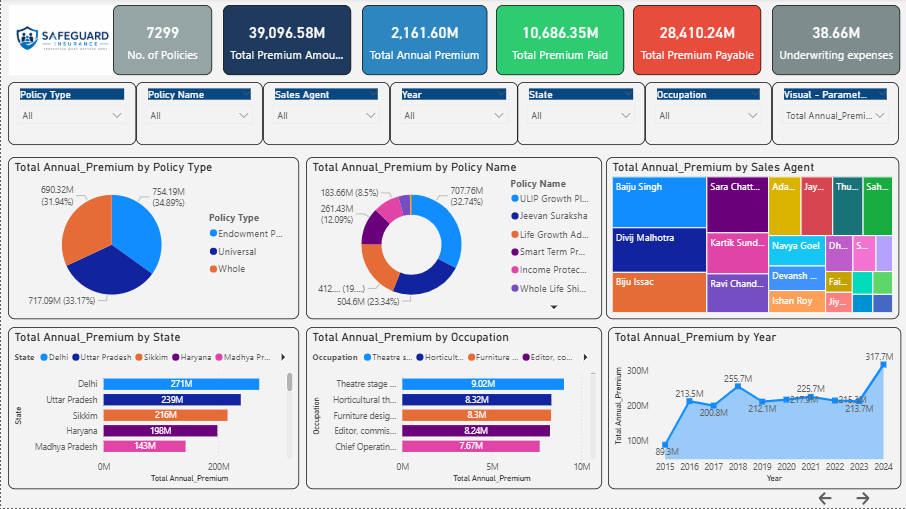

Layout of this report page (visuals, bound fields, positions):
{"tool":"powerbi","page":{"name":"Insurance Overview","canvas":[1280,720],"ordinal":1},"visuals":[{"type":"image","box":[0,10,170,98.6],"z":0},{"type":"slicer","fields":{"Values":["DM Policy_Type.Policy Type"]},"box":[9.9,118.6,180.7,88.9],"z":1000},{"type":"slicer","fields":{"Values":["DM Policy_Protection_Plan.Policy Name"]},"box":[190.6,118.6,179.3,88.9],"z":2000},{"type":"slicer","fields":{"Values":["DM Insurance_Agent_Table.Sales Agent"]},"box":[369.9,118.6,179.3,88.9],"z":3000},{"type":"slicer","fields":{"Values":["FCT Insurance_Policy_Table.Date of Purchase.Variation.Date Hierarchy.Year"]},"box":[549.2,118.6,180.7,88.9],"z":4000},{"type":"slicer","fields":{"Values":["DM Customer_Detail_Table.State"]},"box":[728.5,118.6,180.7,88.9],"z":5000},{"type":"slicer","fields":{"Values":["DM Customer_Detail_Table.Occupation"]},"box":[909.2,118.6,179.3,88.9],"z":6000},{"type":"slicer","fields":{"Values":["Visual - Parameter.Visual - Parameter"]},"box":[1088.5,118.6,179.3,88.9],"z":7000},{"type":"pieChart","fields":{"Y":["FCT Insurance_Policy_Table.Total Annual_Premium"],"Category":["DM Policy_Type.Policy Type"]},"box":[9.9,224.5,410.8,228.7],"z":8000},{"type":"donutChart","fields":{"Y":["FCT Insurance_Policy_Table.Total Annual_Premium"],"Category":["DM Policy_Protection_Plan.Policy Name"]},"box":[430.6,224.5,417.9,228.7],"z":9000},{"type":"treemap","fields":{"Values":["FCT Insurance_Policy_Table.Total Annual_Premium"],"Group":["DM Insurance_Agent_Table.Sales Agent"]},"box":[854.1,224.5,413.6,228.7],"z":10000},{"type":"barChart","title":"Total Annual_Premium by State","fields":{"Y":["FCT Insurance_Policy_Table.Total Annual_Premium"],"Category":["DM Customer_Detail_Table.State"],"Series":["DM Customer_Detail_Table.State"]},"box":[9.9,464.5,410.8,228.7],"z":11000},{"type":"barChart","title":"Total Annual_Premium by Occupation ","fields":{"Y":["FCT Insurance_Policy_Table.Total Annual_Premium"],"Category":["DM Customer_Detail_Table.Occupation"],"Series":["DM Customer_Detail_Table.Occupation"]},"box":[430.6,464.5,417.9,228.7],"z":12000},{"type":"areaChart","fields":{"Y":["FCT Insurance_Policy_Table.Total Annual_Premium"],"Category":["FCT Insurance_Policy_Table.Start Date.Variation.Date Hierarchy.Year"]},"box":[856.9,464.5,413.6,228.7],"z":13000},{"type":"card","fields":{"Values":["CountNonNull(DM Customer_Detail_Table.Customer ID)"]},"box":[158.1,9.9,139.8,98.8],"z":14000},{"type":"card","fields":{"Values":["Sum(FCT Insurance_Policy_Table.Total Premium Amount)"]},"box":[313.4,9.9,180.7,98.8],"z":15000},{"type":"card","fields":{"Values":["Sum(FCT Insurance_Policy_Table.Total Annual Premium)"]},"box":[510,10,177.1,98.6],"z":16000},{"type":"card","fields":{"Values":["Sum(FCT Insurance_Policy_Table.Total Premium Paid)"]},"box":[698.6,10,181.4,98.6],"z":17000},{"type":"card","fields":{"Values":["Sum(FCT Insurance_Policy_Table.Total Premium Payable)"]},"box":[892.9,10,181.4,98.6],"z":18000},{"type":"card","fields":{"Values":["Sum(FCT Insurance_Policy_Table.Underwriting expenses)"]},"box":[1088.6,10,181.4,98.6],"z":19000},{"type":"actionButton","box":[1202.8,693.2,77.6,26.8],"z":20000},{"type":"actionButton","box":[1150.6,693.2,55.1,26.8],"z":21000}]}

Visuals, with their boxes in screenshot pixels (x1, y1, x2, y2), scaled from the page's 1280x720 canvas onto the 906x509 screenshot:
image: bbox=(0, 7, 120, 77)
slicer - DM Policy_Type.Policy Type: bbox=(7, 84, 135, 147)
slicer - DM Policy_Protection_Plan.Policy Name: bbox=(135, 84, 262, 147)
slicer - DM Insurance_Agent_Table.Sales Agent: bbox=(262, 84, 389, 147)
slicer - FCT Insurance_Policy_Table.Date of Purchase.Variation.Date Hierarchy.Year: bbox=(389, 84, 517, 147)
slicer - DM Customer_Detail_Table.State: bbox=(516, 84, 644, 147)
slicer - DM Customer_Detail_Table.Occupation: bbox=(644, 84, 770, 147)
slicer - Visual - Parameter.Visual - Parameter: bbox=(770, 84, 897, 147)
pieChart - FCT Insurance_Policy_Table.Total Annual_Premium x DM Policy_Type.Policy Type: bbox=(7, 159, 298, 320)
donutChart - FCT Insurance_Policy_Table.Total Annual_Premium x DM Policy_Protection_Plan.Policy Name: bbox=(305, 159, 601, 320)
treemap - FCT Insurance_Policy_Table.Total Annual_Premium x DM Insurance_Agent_Table.Sales Agent: bbox=(605, 159, 897, 320)
"Total Annual_Premium by State" barChart: bbox=(7, 328, 298, 490)
"Total Annual_Premium by Occupation " barChart: bbox=(305, 328, 601, 490)
areaChart - FCT Insurance_Policy_Table.Total Annual_Premium x FCT Insurance_Policy_Table.Start Date.Variation.Date Hierarchy.Year: bbox=(607, 328, 899, 490)
card - CountNonNull(DM Customer_Detail_Table.Customer ID): bbox=(112, 7, 211, 77)
card - Sum(FCT Insurance_Policy_Table.Total Premium Amount): bbox=(222, 7, 350, 77)
card - Sum(FCT Insurance_Policy_Table.Total Annual Premium): bbox=(361, 7, 486, 77)
card - Sum(FCT Insurance_Policy_Table.Total Premium Paid): bbox=(494, 7, 623, 77)
card - Sum(FCT Insurance_Policy_Table.Total Premium Payable): bbox=(632, 7, 760, 77)
card - Sum(FCT Insurance_Policy_Table.Underwriting expenses): bbox=(771, 7, 899, 77)
actionButton: bbox=(851, 490, 905, 508)
actionButton: bbox=(814, 490, 853, 508)
